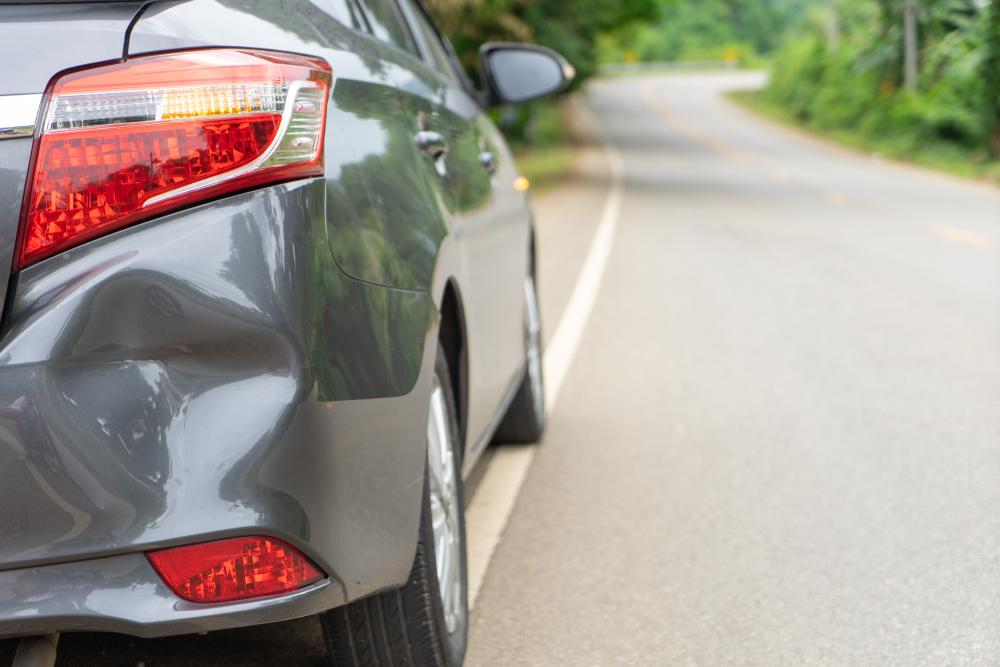dent: (49, 271, 299, 499)
